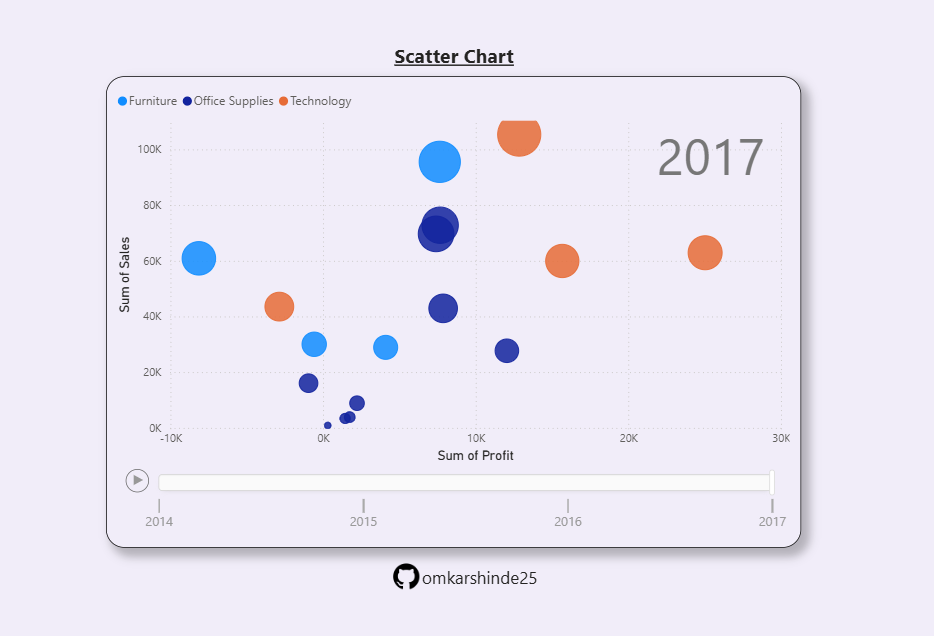

The dashboard page shown, as its layout file describes it:
{"tool":"powerbi","page":{"name":"Scatter Chart","canvas":[1280,720],"ordinal":12},"visuals":[{"type":"scatterChart","fields":{"Y":["Sum(Orders.Sales)"],"X":["Sum(Orders.Profit)"],"Series":["Orders.Category"],"Category":["Orders.Sub-Category"],"Play":["Orders.Order Date.Variation.Date Hierarchy.Year"],"Size":["Sum(Orders.Sales)"]},"box":[258,100.2,763,517.3],"z":0},{"type":"textbox","box":[0,57.6,1280.3,42.5],"z":1000},{"type":"textbox","box":[56.3,632.6,1224,35.7],"z":2000},{"type":"image","box":[561.1,629.5,53.2,38.9],"z":3000}]}

Visuals, with their boxes on the page's 1280x720 design canvas (x1, y1, x2, y2). These are canvas units, not pixel positions in the 934x636 screenshot, which may show the page scaled, cropped or inside an application window:
scatterChart - Sum(Orders.Sales) x Sum(Orders.Profit): 258/100/1021/618
textbox: 0/58/1280/100
textbox: 56/633/1280/668
image: 561/630/614/668
